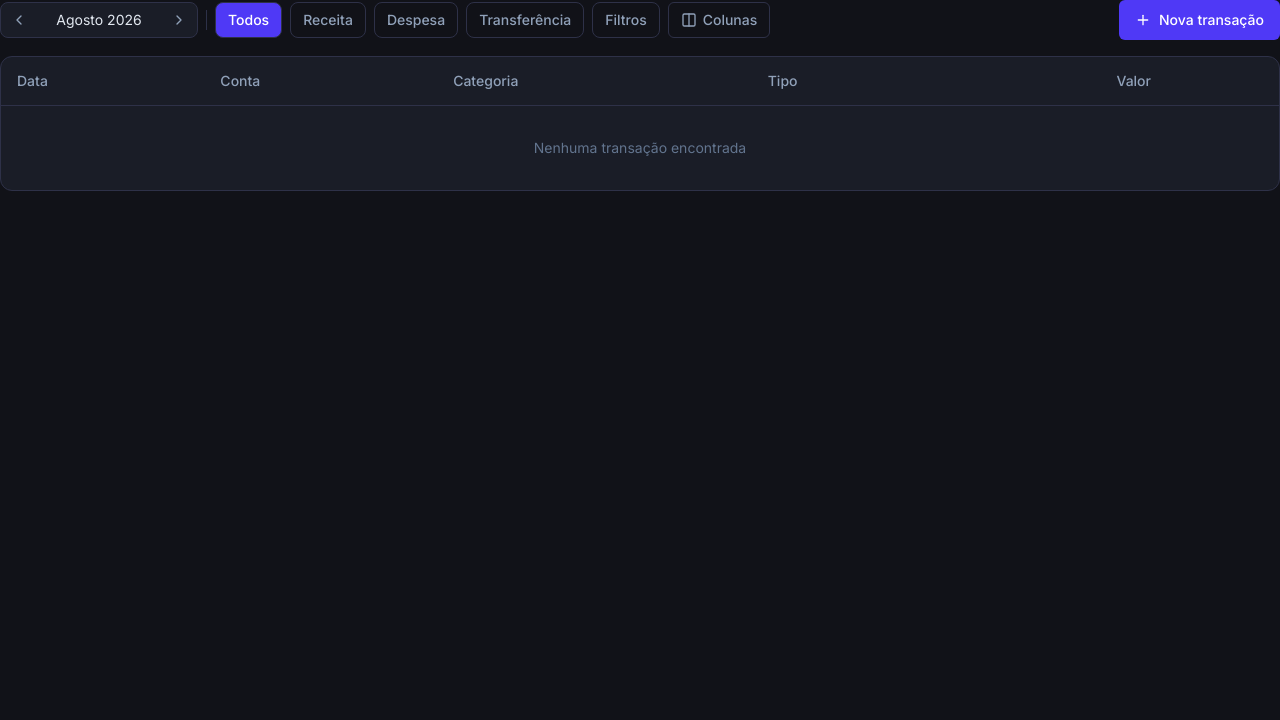
Transactions › exibe erro ao tentar salvar com data vazia
Click the button "Nova transação".
click(1200, 20)  # box [1119,0,1279,40]
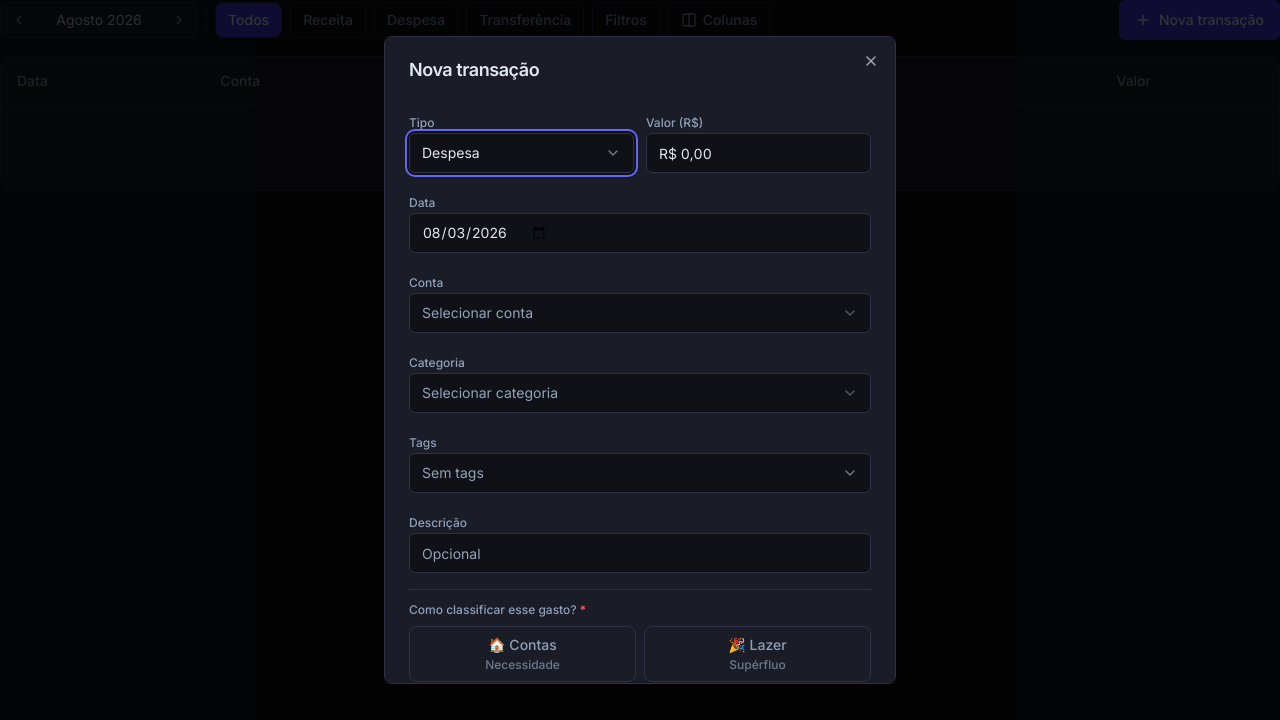
Note: Fill amount — MoneyInput has no placeholder, find by inputmode attribute
Replace the text in the 1st field with "100" at (758, 153), box [646,133,871,173]
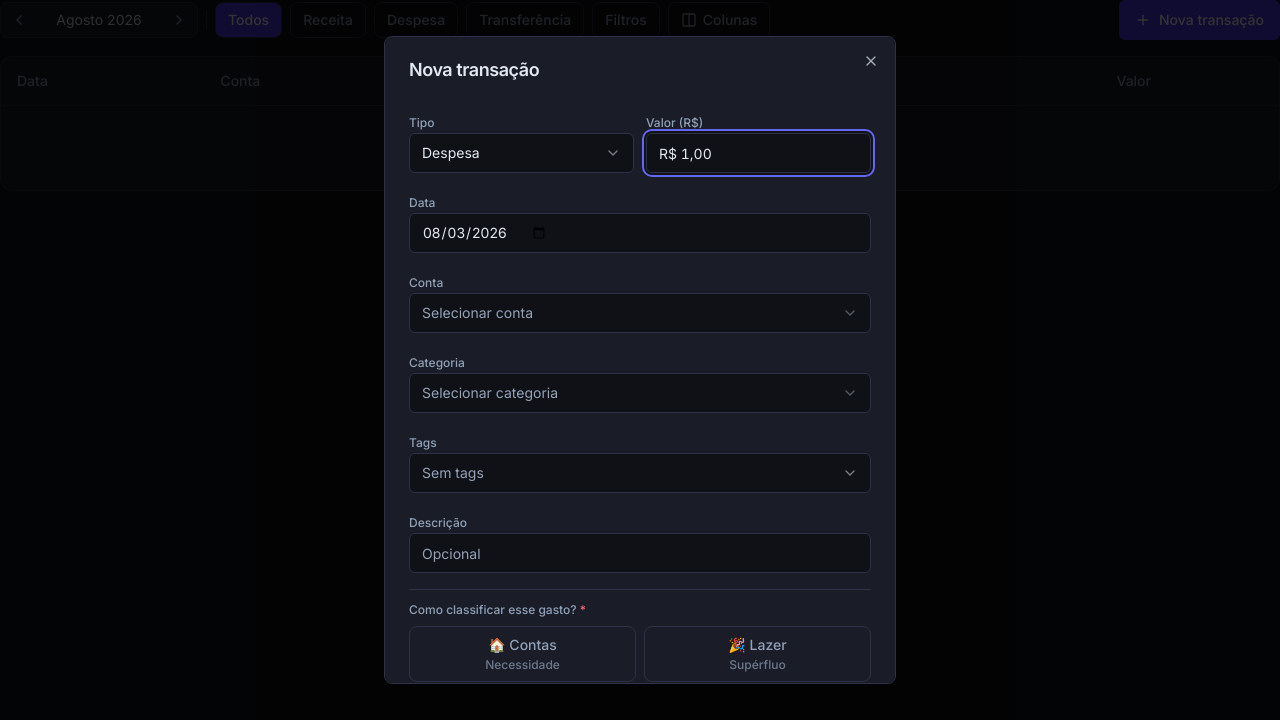
Note: Also clear the date input specifically — find all date inputs
Clear the date field at (640, 233), box [409,213,871,253]
(page scrolled)
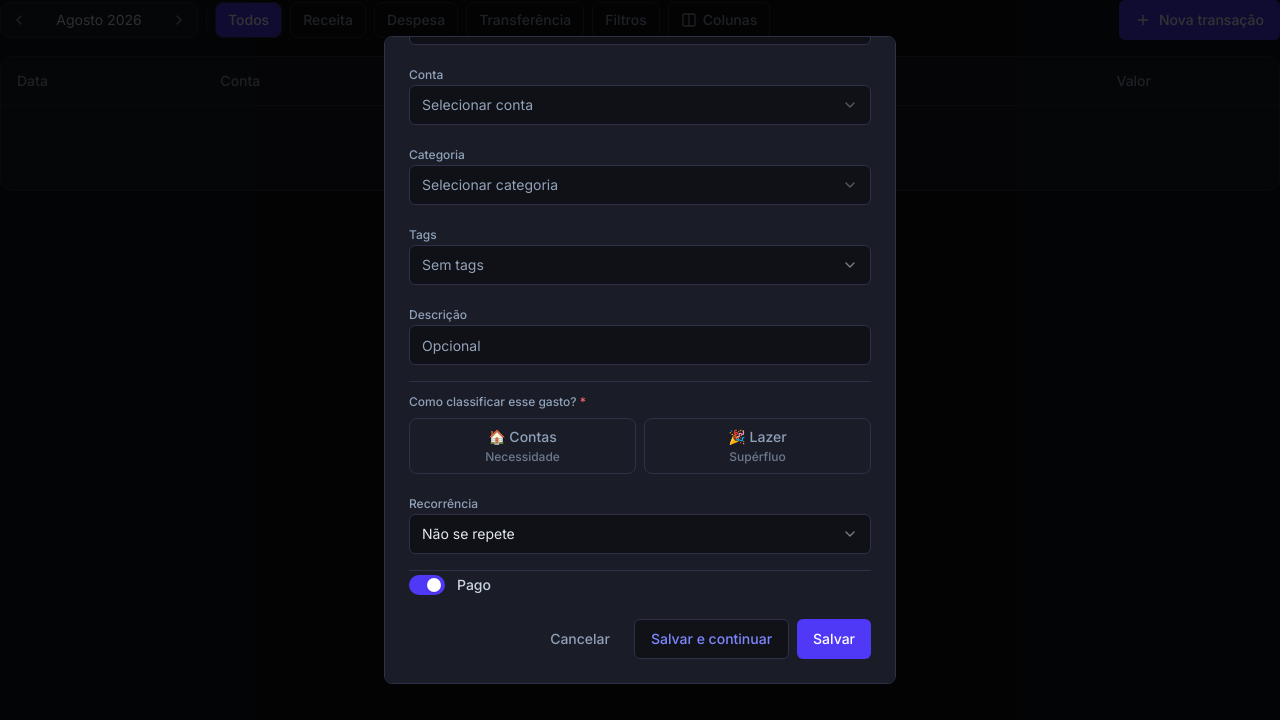
Click the button "Salvar".
click(834, 639)  # box [797,619,871,659]
(page scrolled)
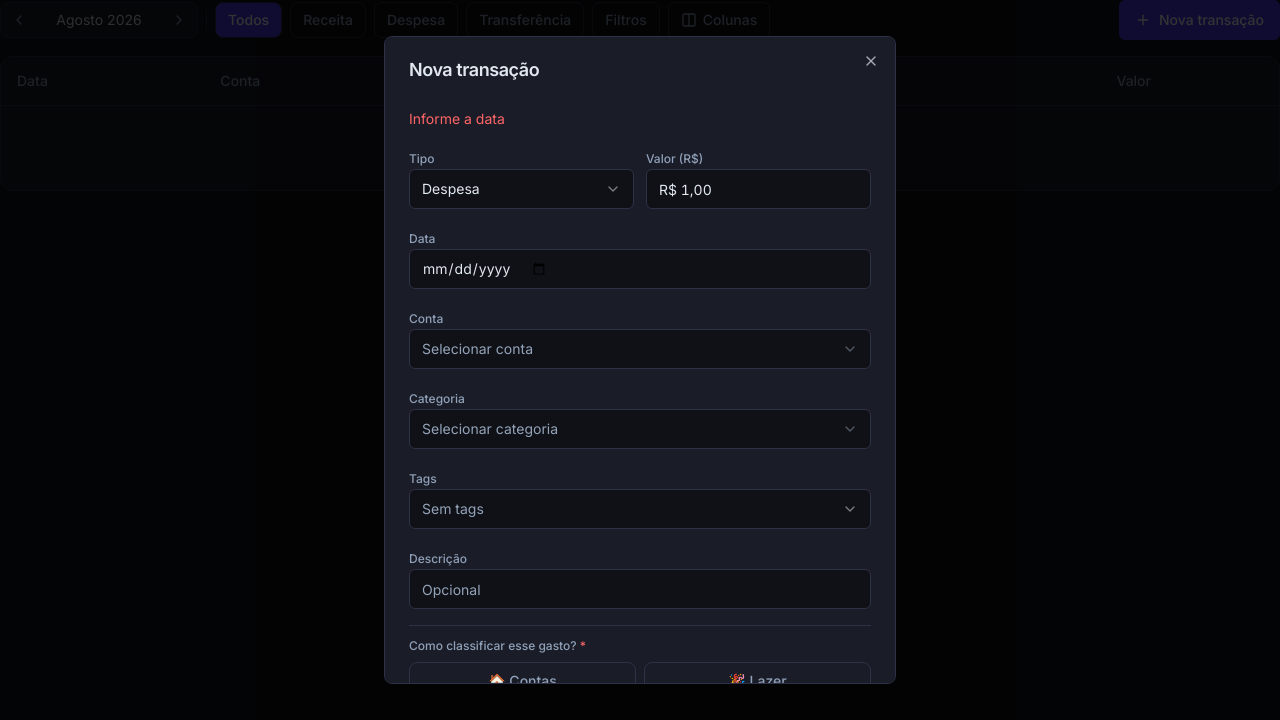
Check: the text "Informe a data" is shown, box [409,110,505,127]
